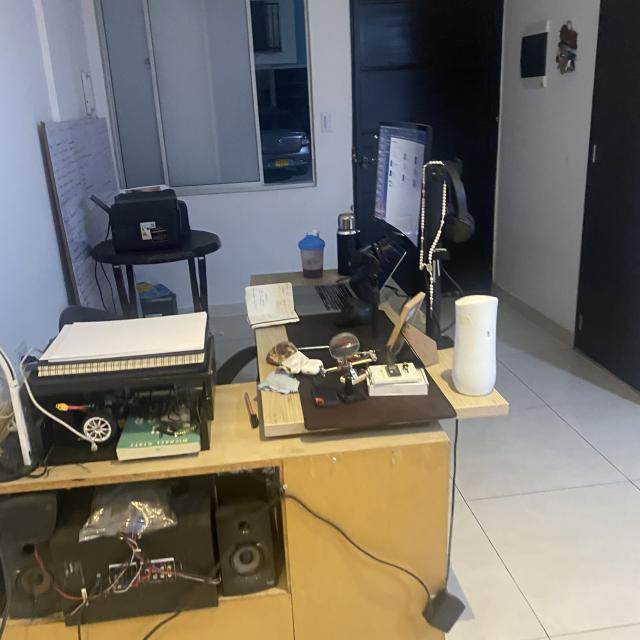obstacle: (193, 105, 502, 629)
